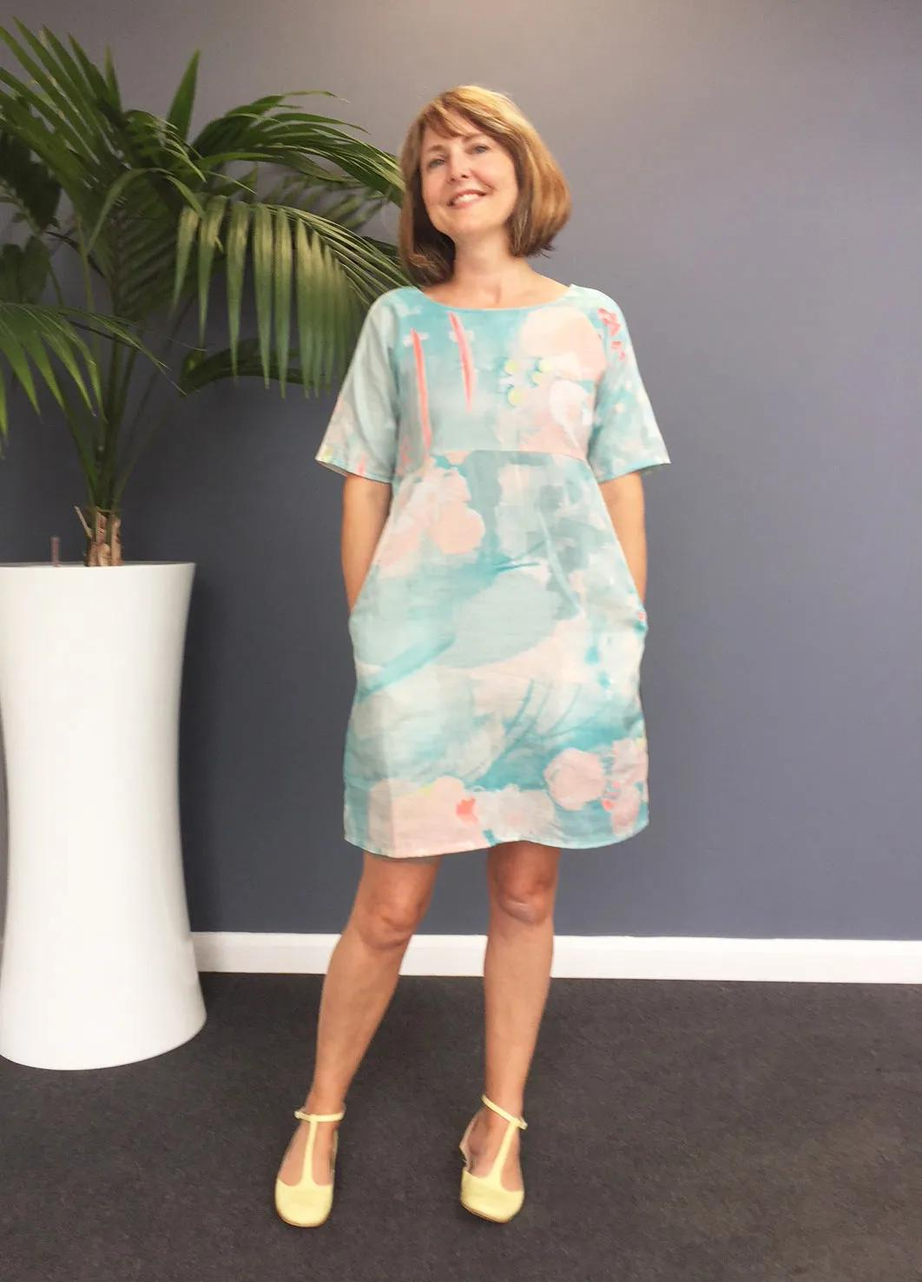dress: (313, 284, 675, 858)
